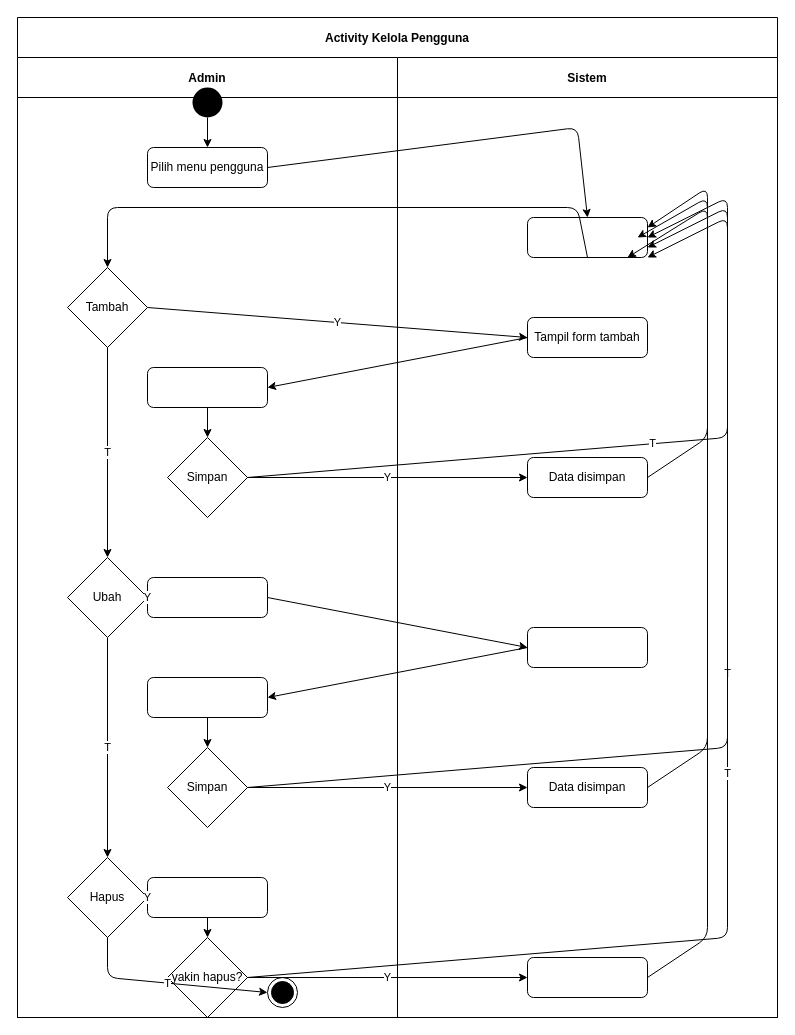
This 795x1035 diagram has some shape labels left out. Each missing label, with the centre of its shape:
"Data dihapus" goes at pixel 587 977.
"Pilih data yang akan dihapus" goes at pixel 207 897.
"Pilih data yang di ubah" goes at pixel 207 597.
"Tambah data" goes at pixel 207 387.
"Tampil data pengguna" goes at pixel 587 237.
"Tampil form ubah" goes at pixel 587 647.
"Ubah data" goes at pixel 207 697.
